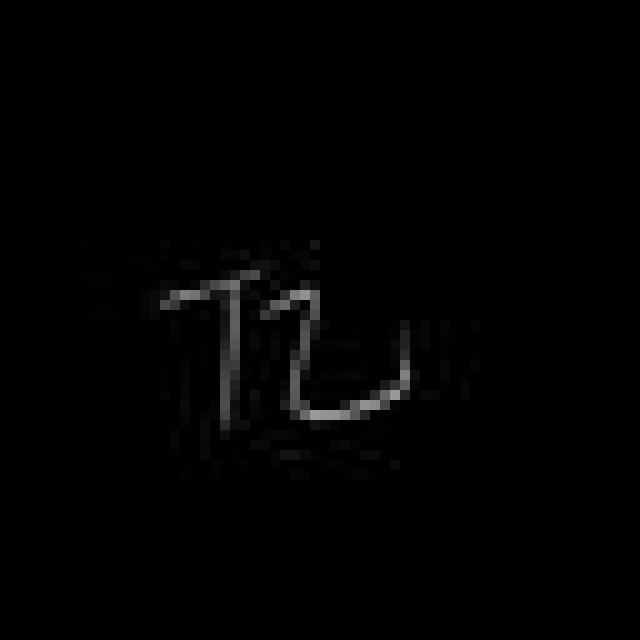100000 -a hundred thousand-: (145, 261, 421, 438)
